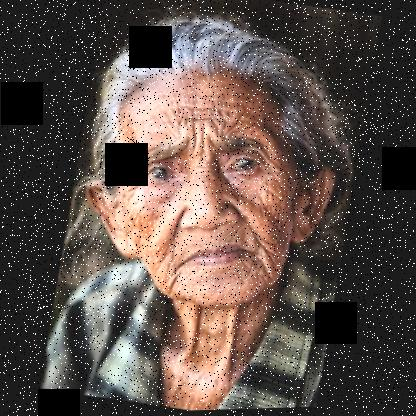Female: (69, 50, 348, 327)
